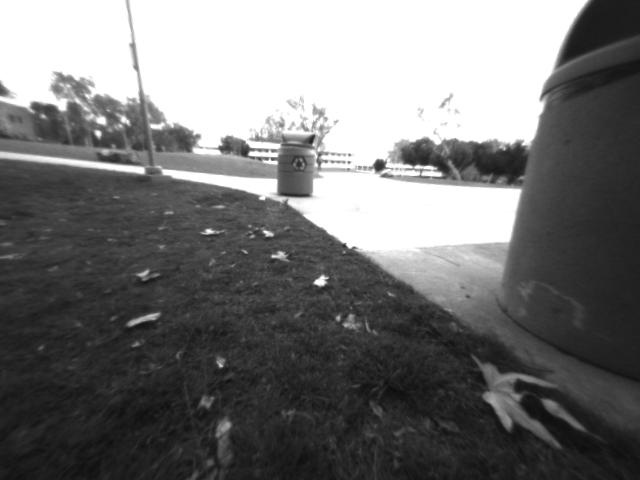trashcan: (268, 112, 333, 201)
